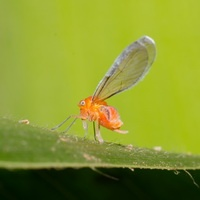insect: (52, 36, 155, 142)
